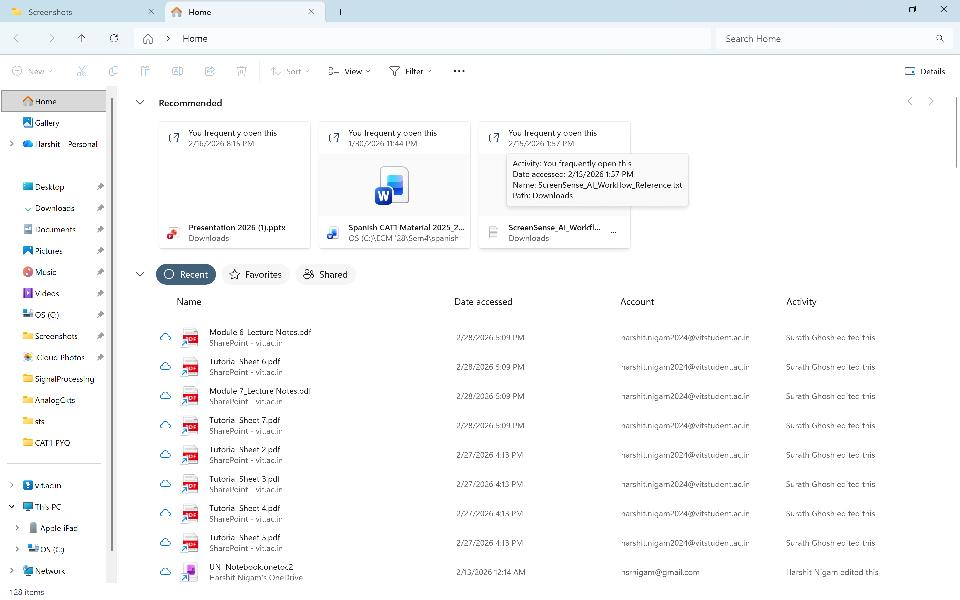close_button: (936, 1, 951, 17)
maximize_button: (905, 1, 920, 17)
minimize_button: (874, 1, 891, 17)
